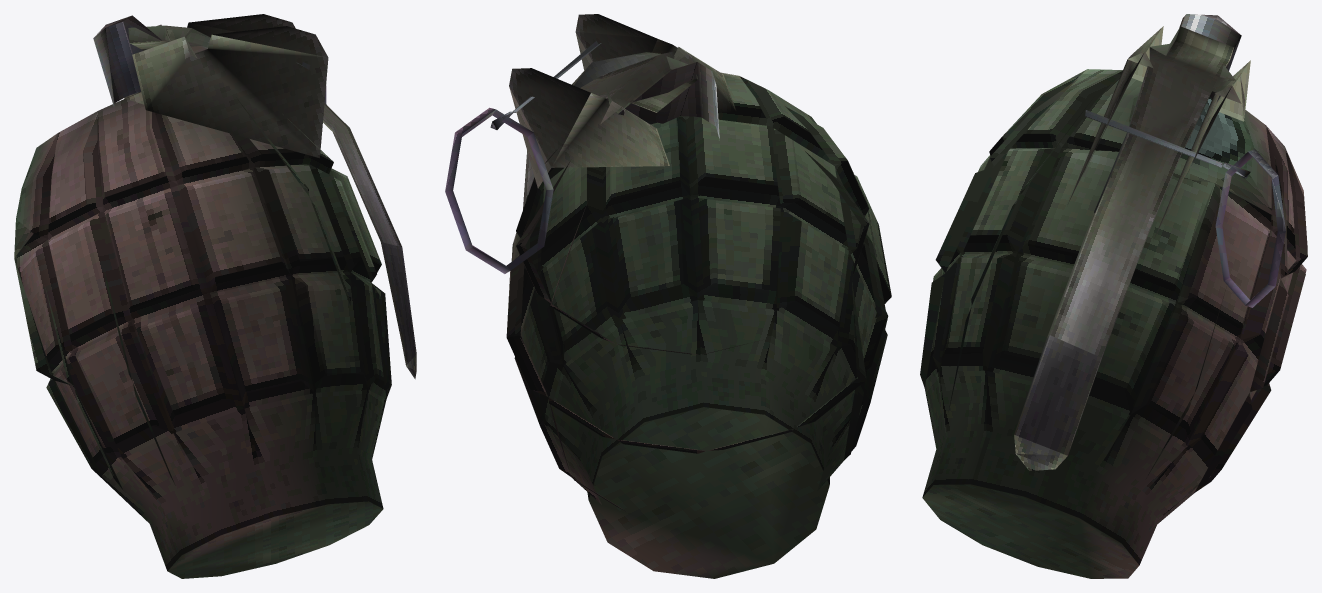
The model's file is ps2_save-icons_medalofhonoreuropeanassault.glb.
3 views of the same model, side by side, from view 1: azimuth 30°, elevation 25°; view 2: azimuth 150°, elevation 25°; view 3: azimuth 270°, elevation 25° (orthographic). The views are drawn at different scales.
Parts seen in each view (by area): view 1: iconlist.ico; view 2: iconlist.ico; view 3: iconlist.ico.
Part boxes in pixels (<box>): iconlist.ico: <box>14,14,416,578</box>; iconlist.ico: <box>445,14,891,578</box>; iconlist.ico: <box>920,14,1307,578</box>.
Bounding box in the file's own units: 3.44 × 5 × 3.39.
1 material, 1 textured.
